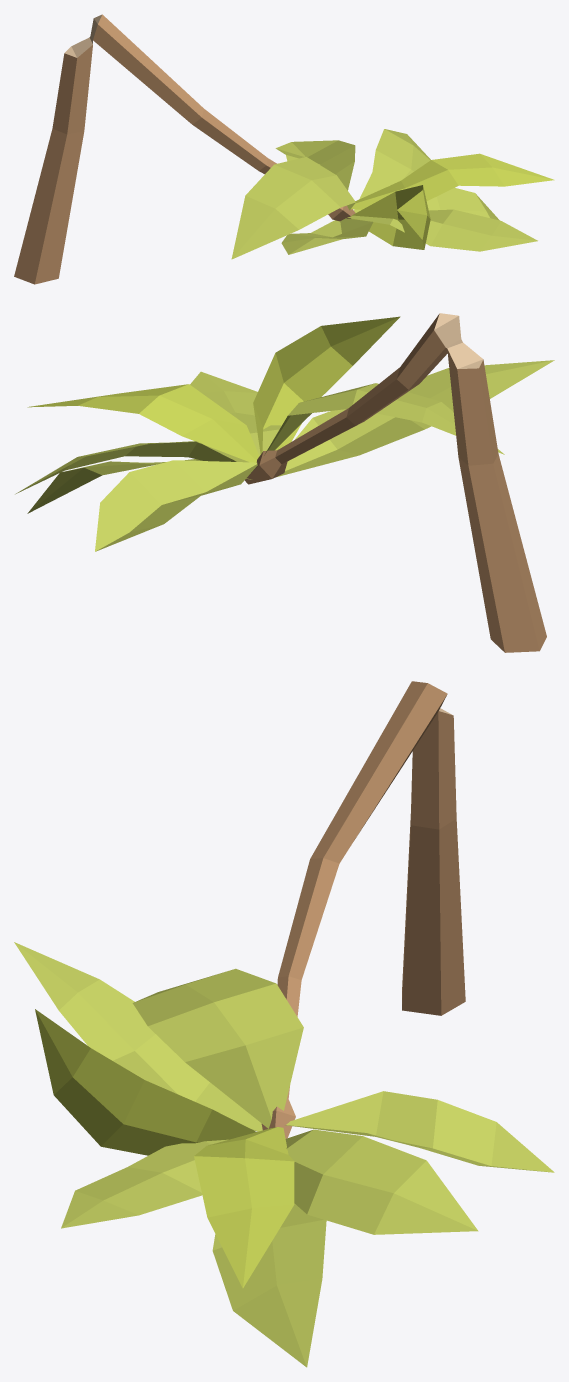
The model's file is Palm_Tree_crk_l_BT_03.fbx.
The picture shows the model from 3 angles, top to bottom: view 1: azimuth 30°, elevation 25°; view 2: azimuth 150°, elevation 25°; view 3: azimuth 270°, elevation 25°; orthographic projection. The views are drawn at different scales.
Visible parts, largest first — view 1: Palm_Tree_crk_l_BT_03; view 2: Palm_Tree_crk_l_BT_03; view 3: Palm_Tree_crk_l_BT_03.
Boxes of the visible parts, bbox=[...] form: Palm_Tree_crk_l_BT_03: bbox=[14, 14, 554, 284]; Palm_Tree_crk_l_BT_03: bbox=[15, 313, 554, 652]; Palm_Tree_crk_l_BT_03: bbox=[14, 681, 554, 1367].
Size of the model in its own units: 672 by 378 by 445.
